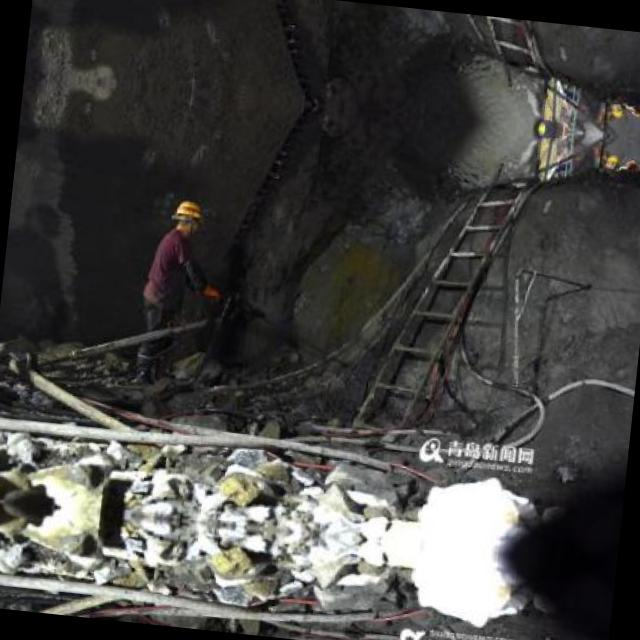helmet: (170, 195, 204, 238)
